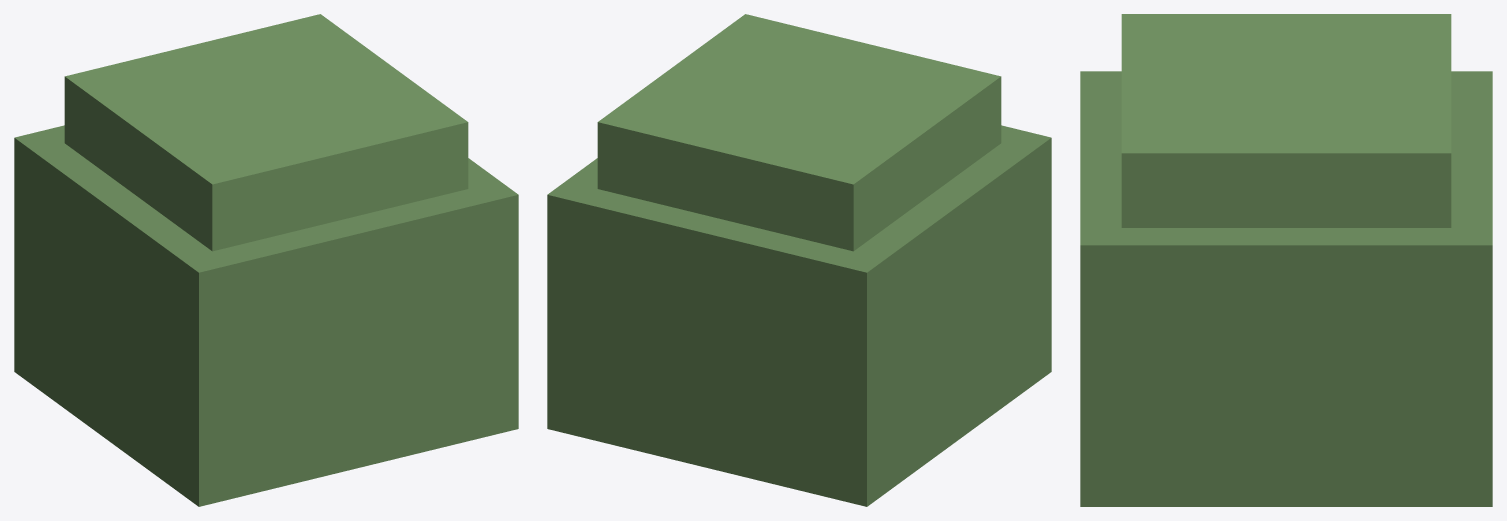
Rendered from arbusto_comun_05.glb.
3 renders of one model, left to right at view 1: azimuth 30°, elevation 25°; view 2: azimuth 150°, elevation 25°; view 3: azimuth 270°, elevation 25°, orthographic. The views are drawn at different scales.
Visible parts, largest first — view 1: arbusto_comun_05; view 2: arbusto_comun_05; view 3: arbusto_comun_05.
Part boxes in pixels (bbox=[...]): arbusto_comun_05: bbox=[14, 14, 518, 506]; arbusto_comun_05: bbox=[547, 14, 1051, 506]; arbusto_comun_05: bbox=[1080, 14, 1492, 506].
Bounding box in the file's own units: 1 × 0.9 × 1.
